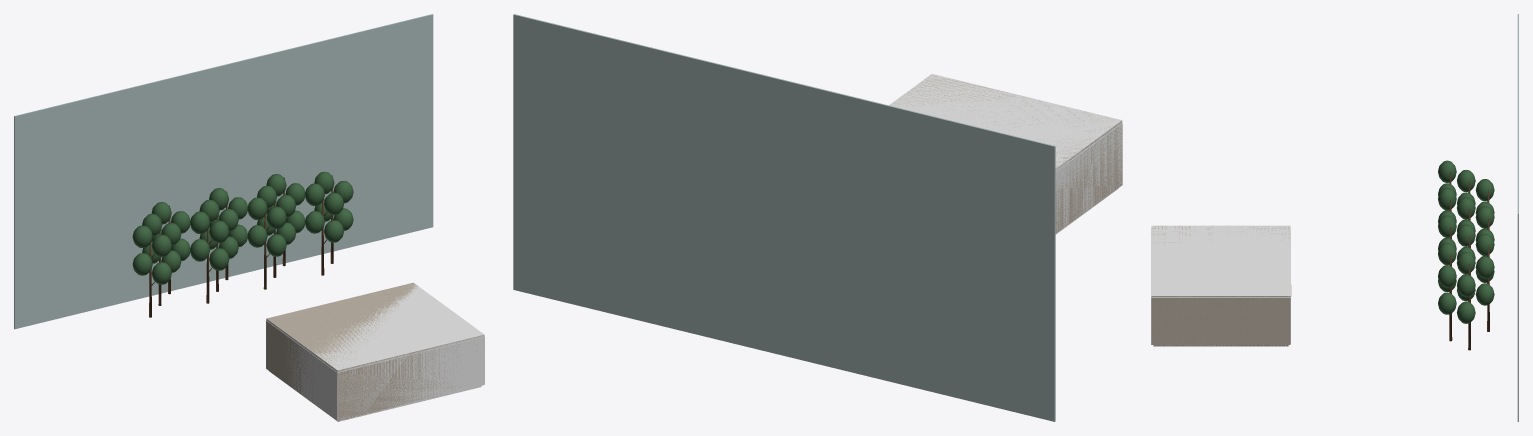
File: home-realistic-full.glb
The picture shows the model from 3 angles, left to right: view 1: azimuth 30°, elevation 25°; view 2: azimuth 150°, elevation 25°; view 3: azimuth 270°, elevation 25°; orthographic projection. The views are drawn at different scales.
Visible parts, largest first — view 1: VIS_exterior, COL_ceiling, VIS_walls, COL_south, VIS_ceiling, COL_side-6; view 2: VIS_exterior, COL_ceiling, COL_side-6, VIS_walls, VIS_ceiling; view 3: COL_ceiling, VIS_exterior, VIS_walls, VIS_ceiling.
Boxes of the visible parts, bbox=[...] form: VIS_exterior: bbox=[14, 14, 433, 329]; COL_ceiling: bbox=[266, 282, 484, 372]; VIS_walls: bbox=[266, 321, 476, 420]; COL_south: bbox=[337, 337, 484, 420]; VIS_ceiling: bbox=[267, 282, 483, 371]; COL_side-6: bbox=[266, 320, 337, 420]; VIS_exterior: bbox=[513, 14, 1055, 421]; COL_ceiling: bbox=[889, 74, 1122, 170]; COL_side-6: bbox=[1055, 123, 1122, 233]; VIS_walls: bbox=[1055, 125, 1122, 233]; VIS_ceiling: bbox=[889, 75, 1121, 170]; COL_ceiling: bbox=[1151, 225, 1290, 297]; VIS_exterior: bbox=[1438, 14, 1518, 421]; VIS_walls: bbox=[1151, 298, 1290, 344]; VIS_ceiling: bbox=[1152, 225, 1290, 297].
Bounding box in the file's own units: 35 × 17 × 27.23.
Materials: 18 (5 with a texture image).
